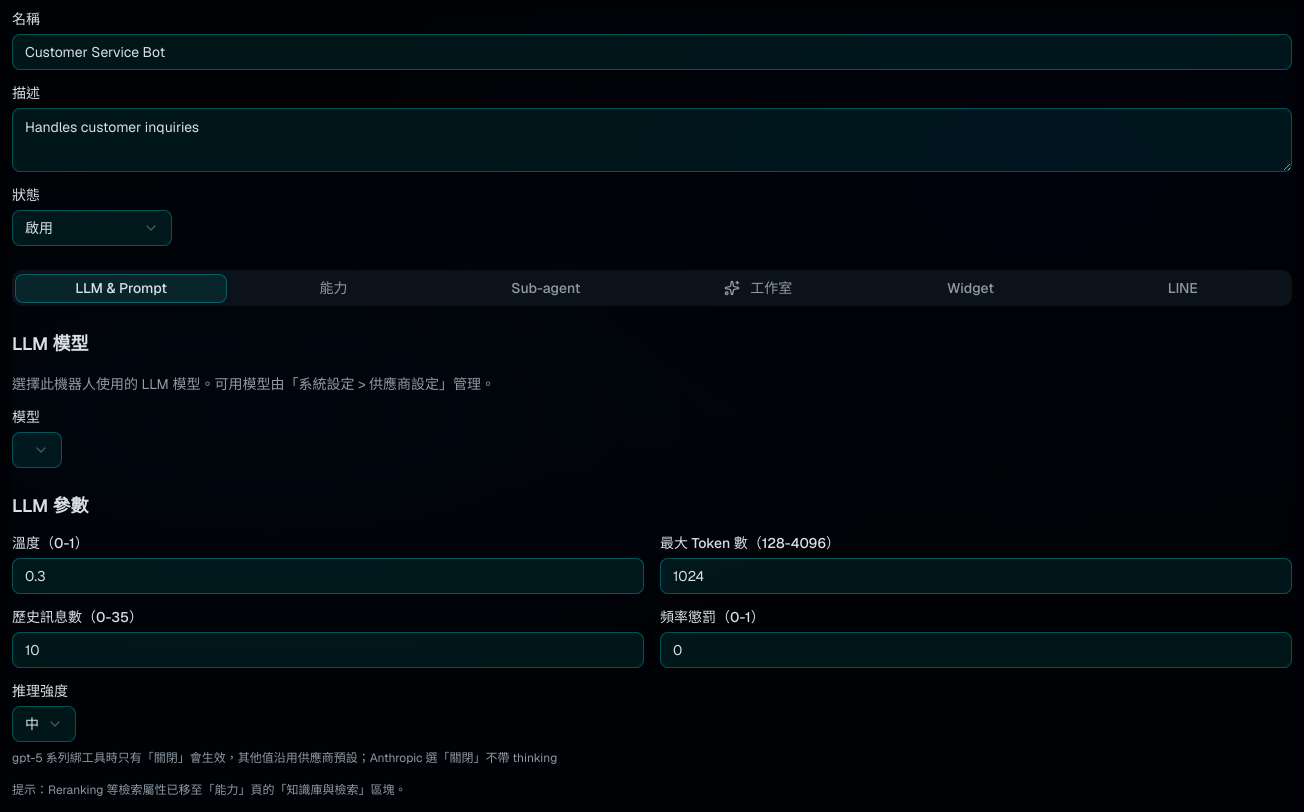
Test: BotDetailForm › should show 知識庫與檢索 section in 能力 tab
The image size is (1304, 812).
Click the tab "能力" at [333, 288], box [227,274,440,302]
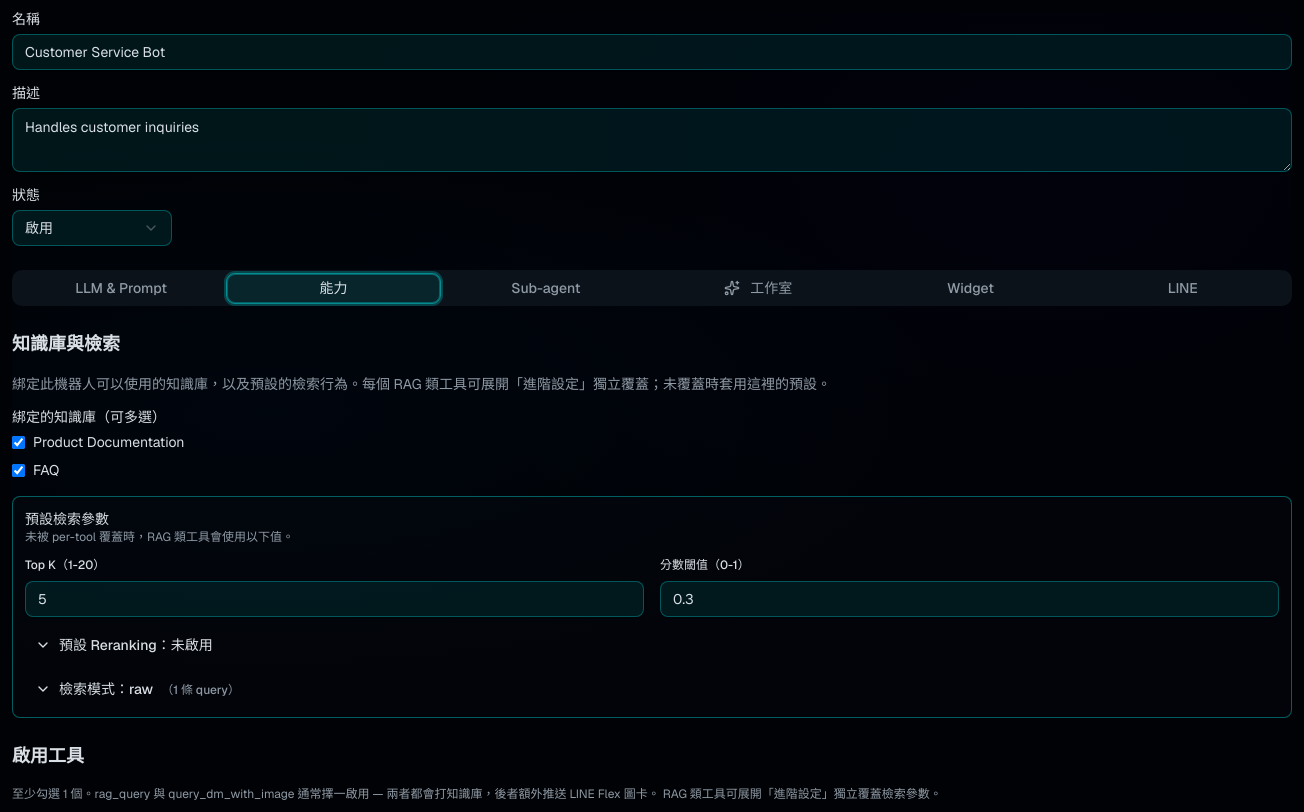
Check: the text "預設檢索參數" is shown, box [25,510,109,528]
Check: the number field labelled "Top K（1-20）" is shown, box [25,581,644,617]
Check: the number field labelled "分數閾值（0-1）" is shown, box [660,581,1279,617]
